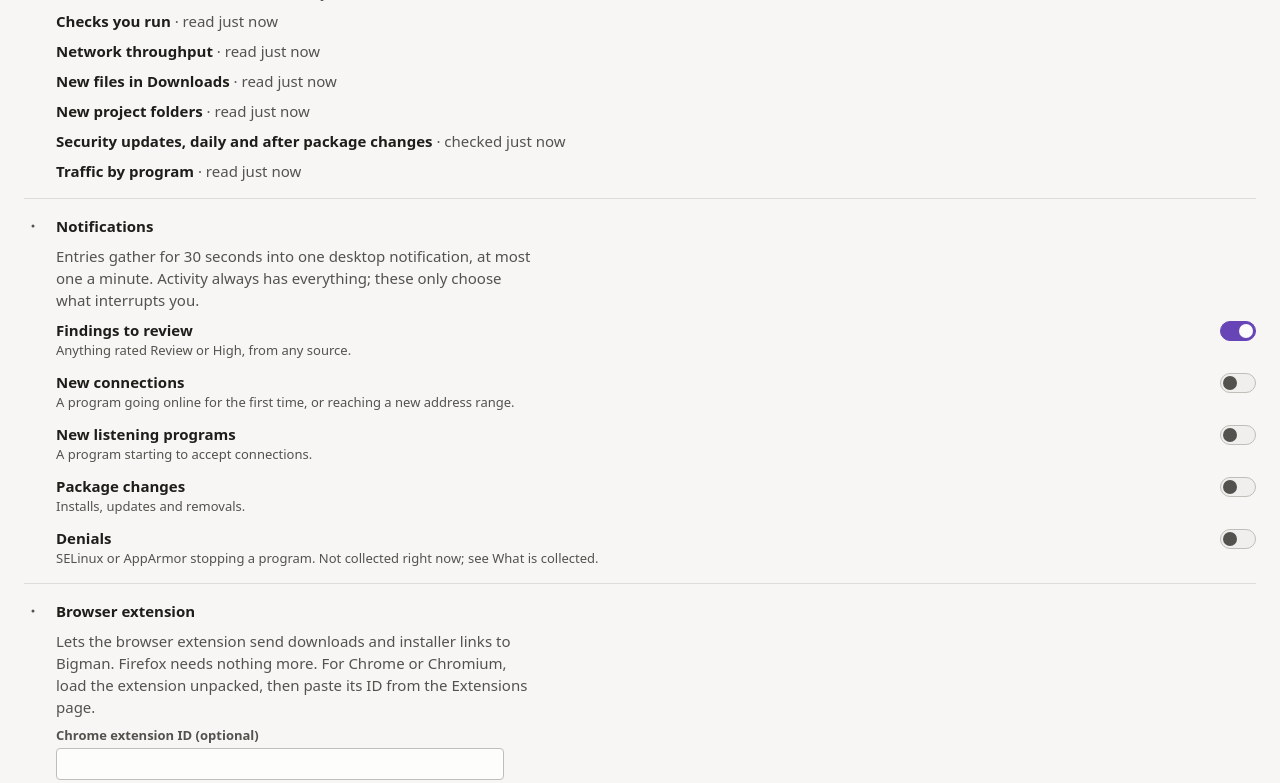
Test case: Setup notifications › keeps findings on by default and saves a category change
This screenshot has width=1280, height=783.
(page scrolled)
Step 1. Click the switch named "New connections" in the row of "New connections" → {"x": 1238, "y": 383}, box [1220, 373, 1256, 393]
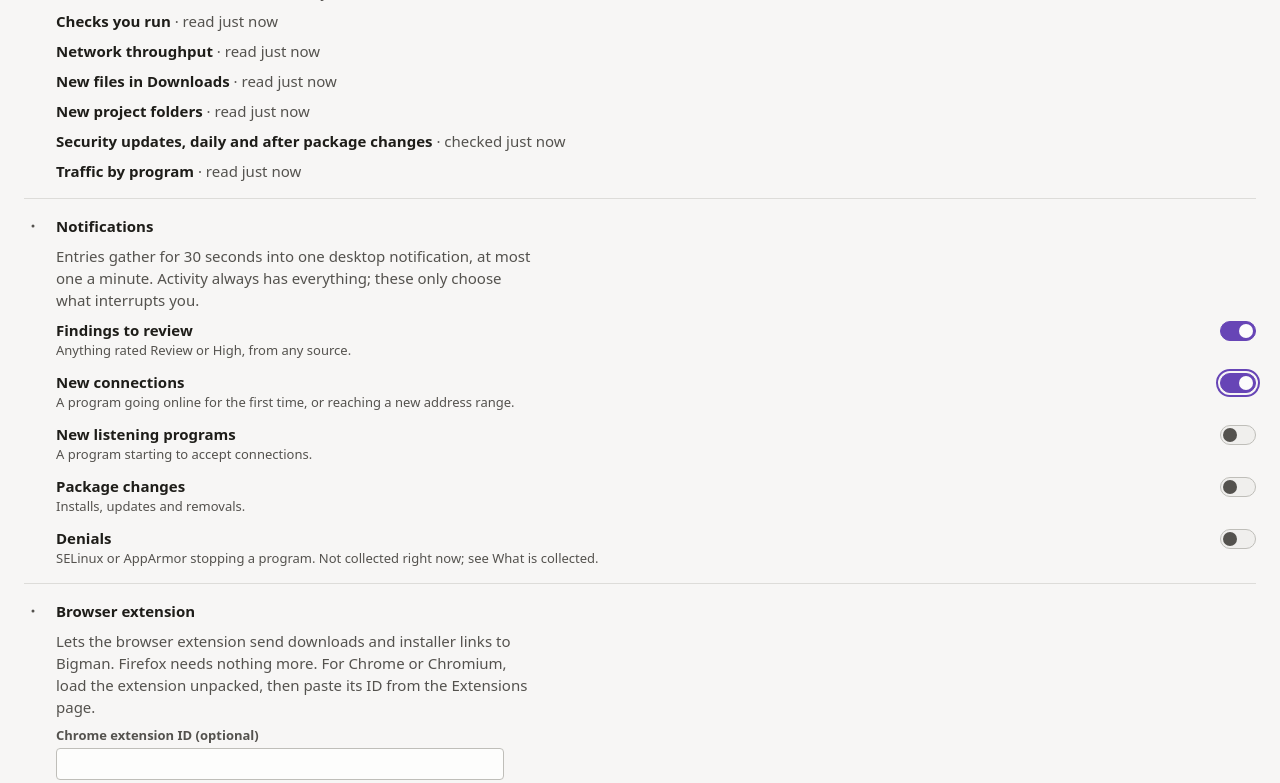
Check: the switch named "New connections" in the row of "New connections" is checked, box [1220, 373, 1256, 393]
